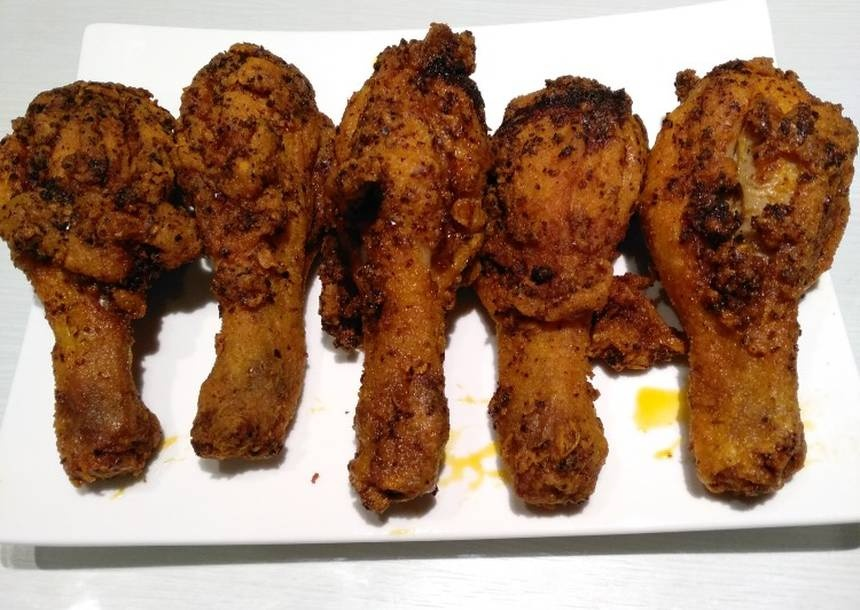ayam_goreng: (646, 29, 859, 512), (465, 69, 647, 533), (0, 70, 186, 500), (335, 27, 494, 518), (161, 33, 326, 484)
